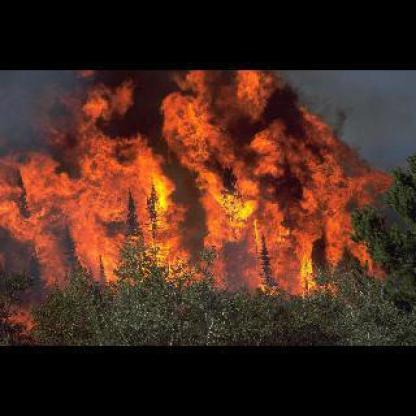fire: (3, 72, 390, 295)
